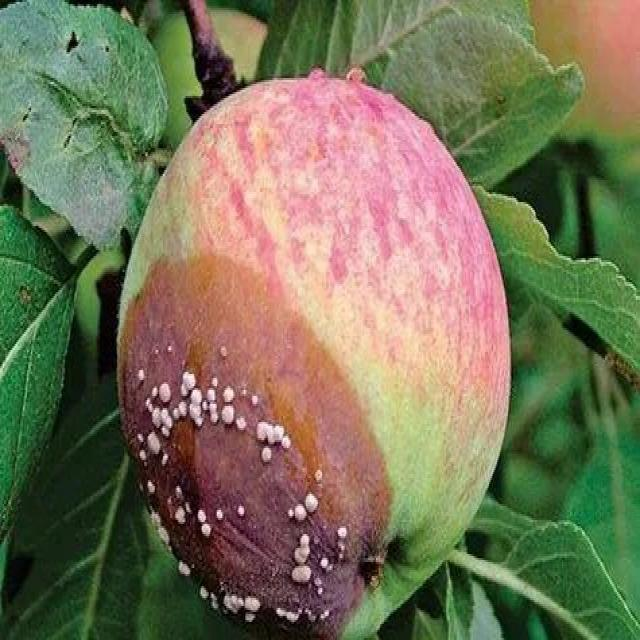Rotten: (115, 76, 502, 632)
